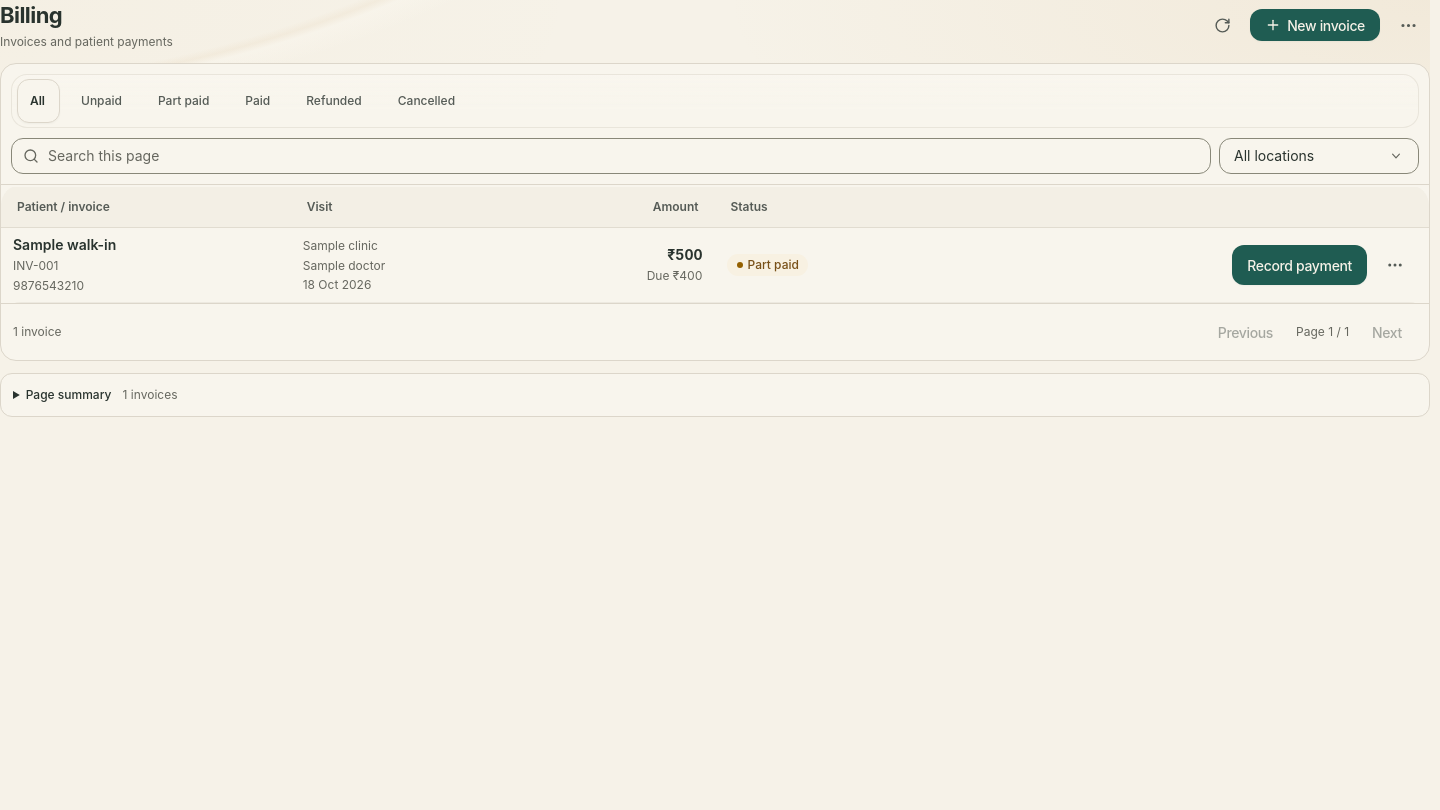
Test case: labels prescribed medicines awaiting supply as unbilled in checkout
The image size is (1440, 810).
What coordinates should you click on to do the following:
click the button named "Billing tools"
I would click on:
 (1408, 25)
Its box is [1386,3,1430,47].
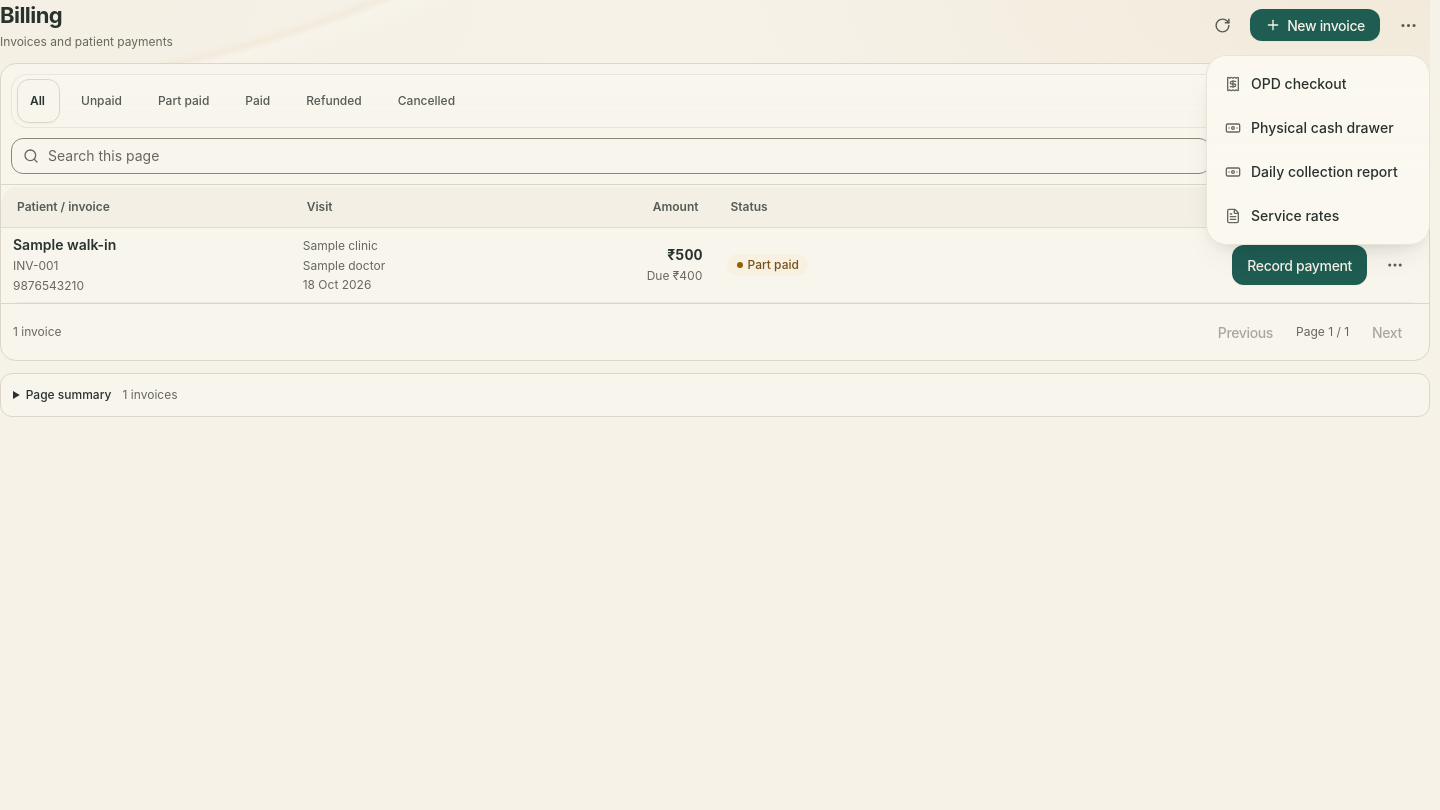
What coordinates should you click on to do the following:
click the menu item "OPD checkout"
I would click on:
 (1318, 84)
Its box is [1213,62,1423,106].
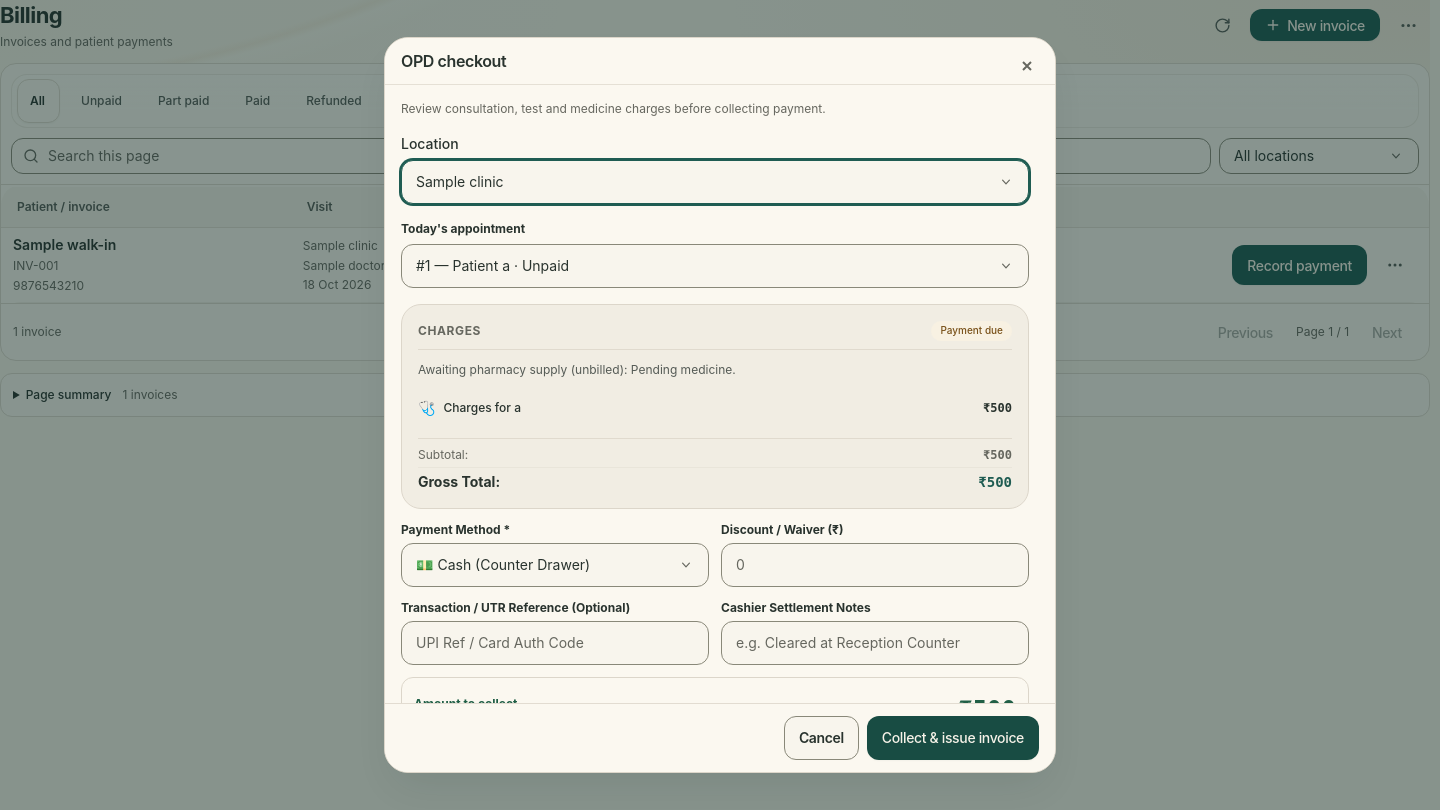
Expected: the text "Awaiting pharmacy supply (unbilled): Pending medicine." is shown, [418,362,736,377]
